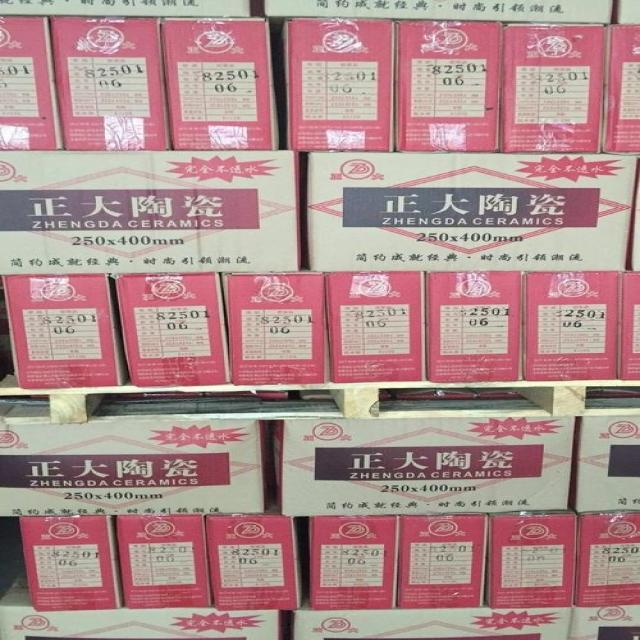box: (311, 150, 639, 268), (0, 150, 312, 274), (268, 417, 573, 519), (0, 421, 263, 517), (0, 566, 282, 639), (44, 14, 174, 147), (167, 19, 281, 151), (391, 21, 506, 150), (285, 17, 394, 150), (7, 271, 126, 387), (505, 22, 610, 150), (226, 267, 332, 381), (120, 270, 224, 385), (329, 268, 426, 381), (426, 270, 524, 381), (526, 270, 623, 381), (19, 516, 121, 613), (111, 515, 217, 608), (202, 516, 301, 610), (488, 512, 580, 609), (295, 607, 572, 639), (396, 514, 485, 611), (0, 15, 63, 148), (311, 516, 399, 610), (268, 0, 621, 22), (572, 417, 639, 511), (576, 512, 639, 608), (602, 23, 639, 150), (4, 2, 263, 17), (574, 600, 639, 637), (624, 266, 639, 382), (621, 0, 639, 20)
